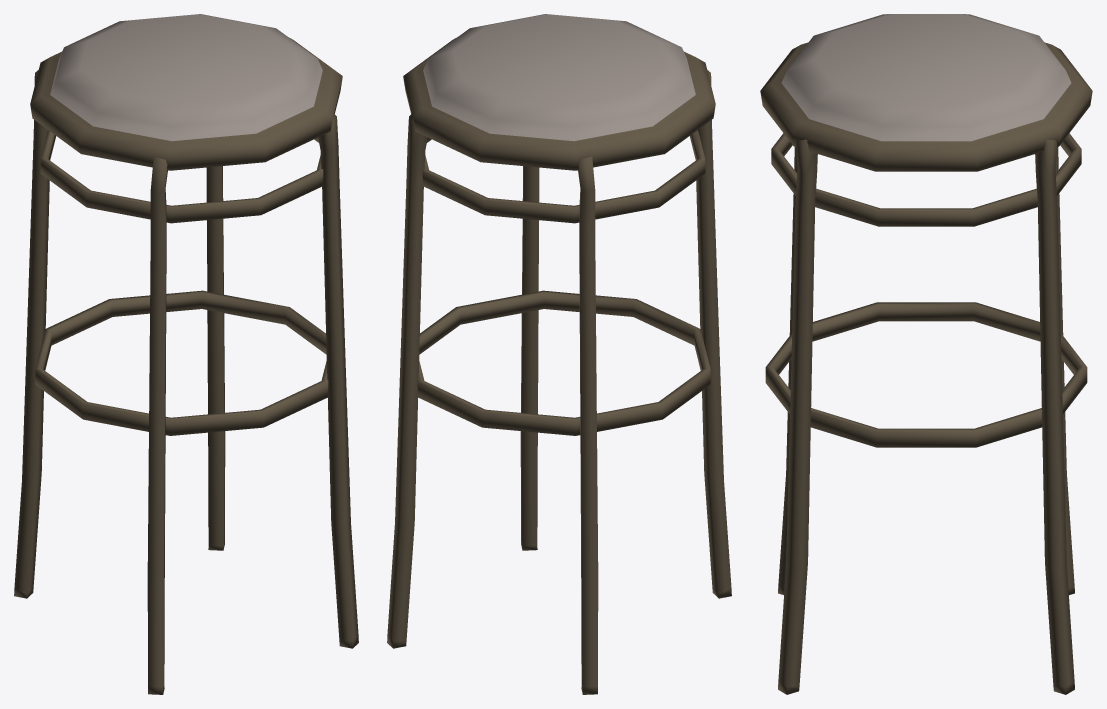
The model's file is Stool.glb.
3 renders of one model, left to right at view 1: azimuth 30°, elevation 25°; view 2: azimuth 150°, elevation 25°; view 3: azimuth 270°, elevation 25°, orthographic. The views are drawn at different scales.
Visible parts, largest first — view 1: Stool; view 2: Stool; view 3: Stool.
Part boxes in pixels (left/top/right/bottom): Stool: left=14, top=14, right=358, bottom=694; Stool: left=387, top=14, right=731, bottom=694; Stool: left=760, top=14, right=1092, bottom=694.
Bounding box in the file's own units: 0.6753 × 1.37 × 0.7101.
